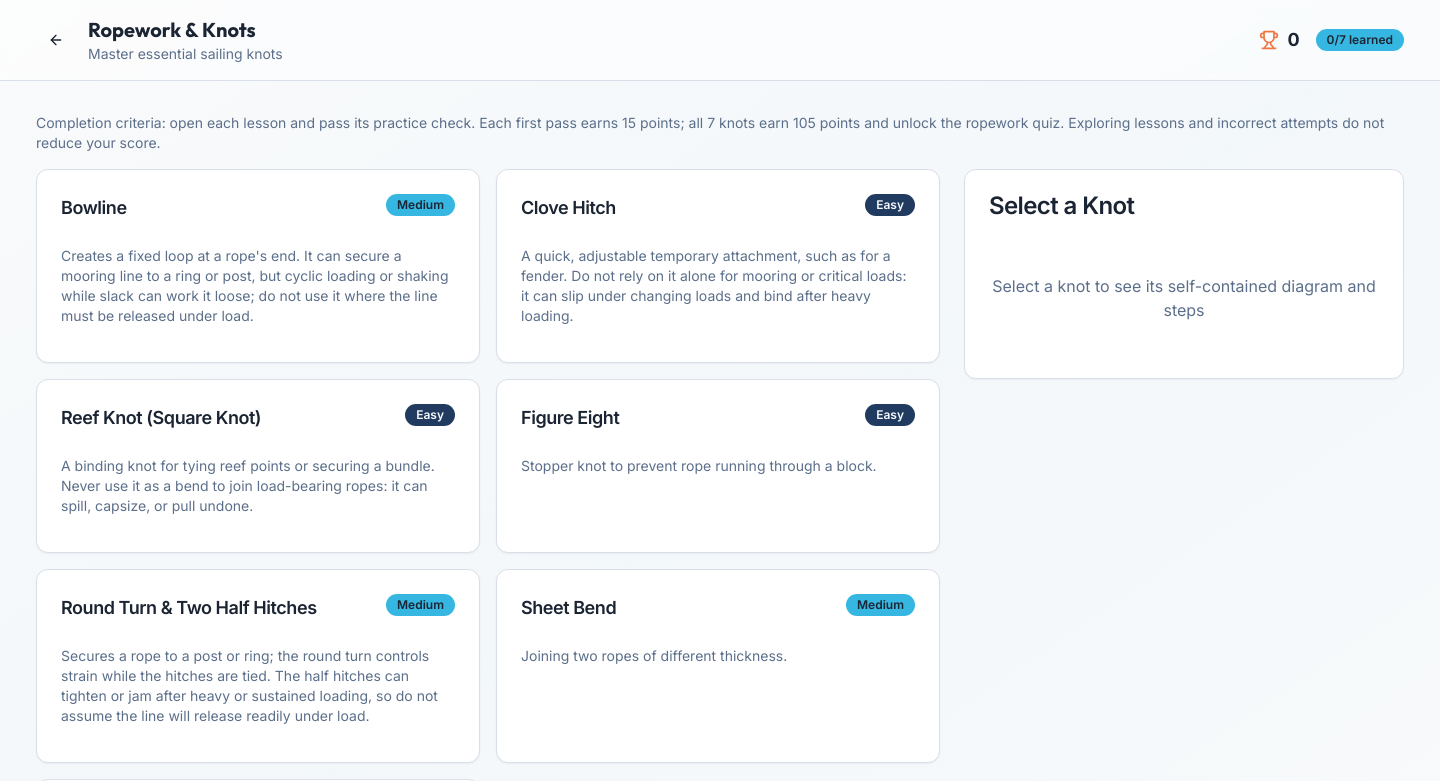
Test: RopeworkTheory durable progress › shows a failed save and retries the same snapshot
Click the button named "Bowline" in the row of "Bowline" at (258, 266), box [37,170,479,362]
(page scrolled)
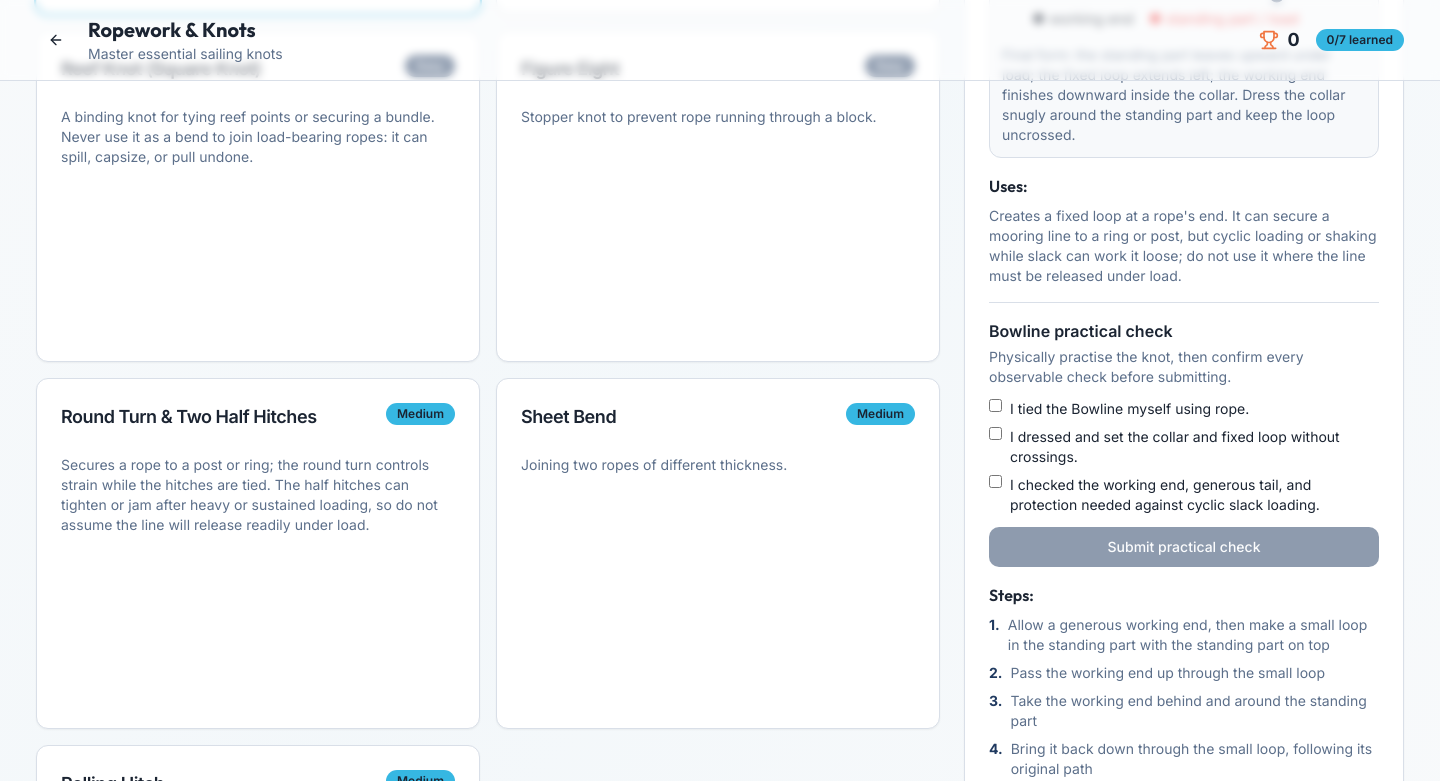
Click the checkbox labelled "I tied the Bowline myself using rope." at (996, 406), box [989,399,1002,412]
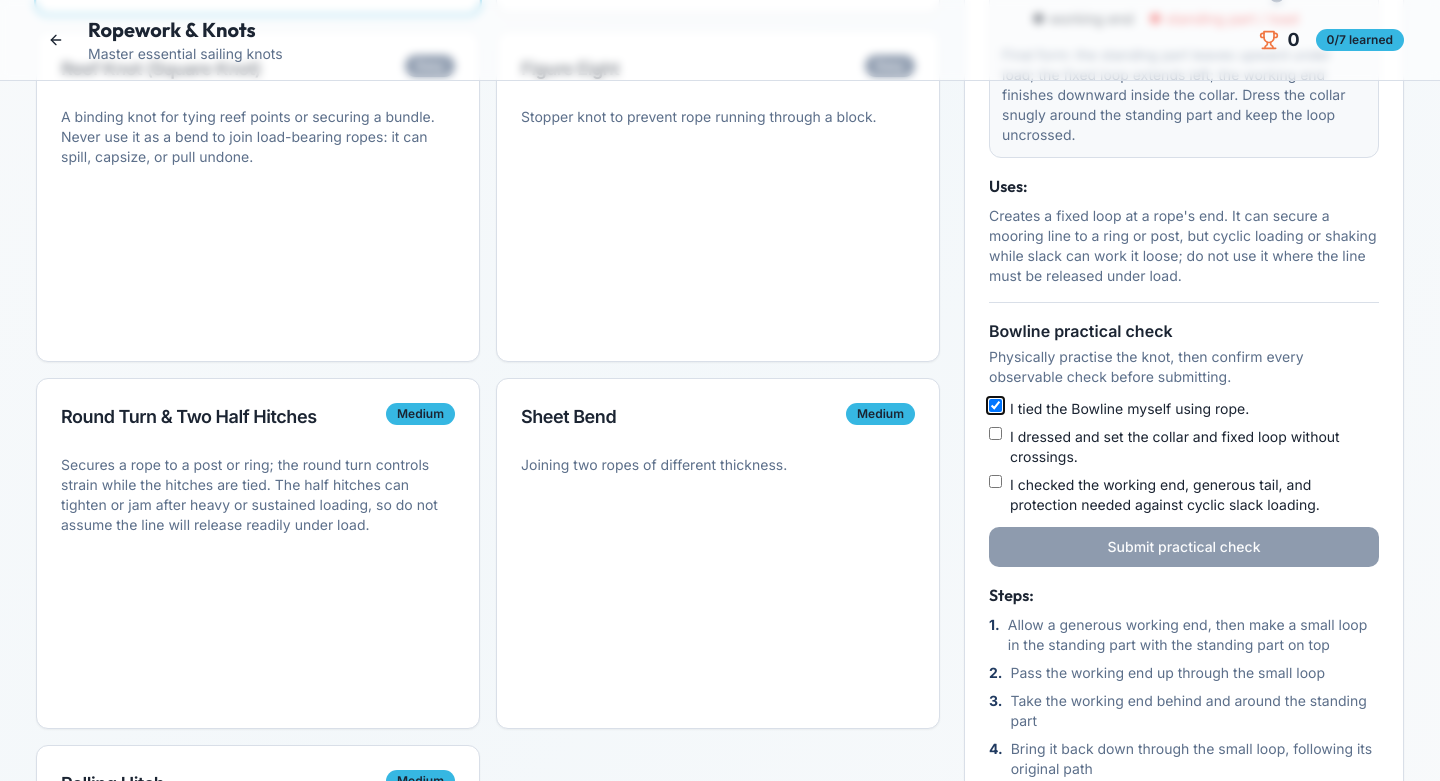
Click the checkbox labelled "I dressed and set the collar and fixed loop without crossings." at (996, 434), box [989,427,1002,440]
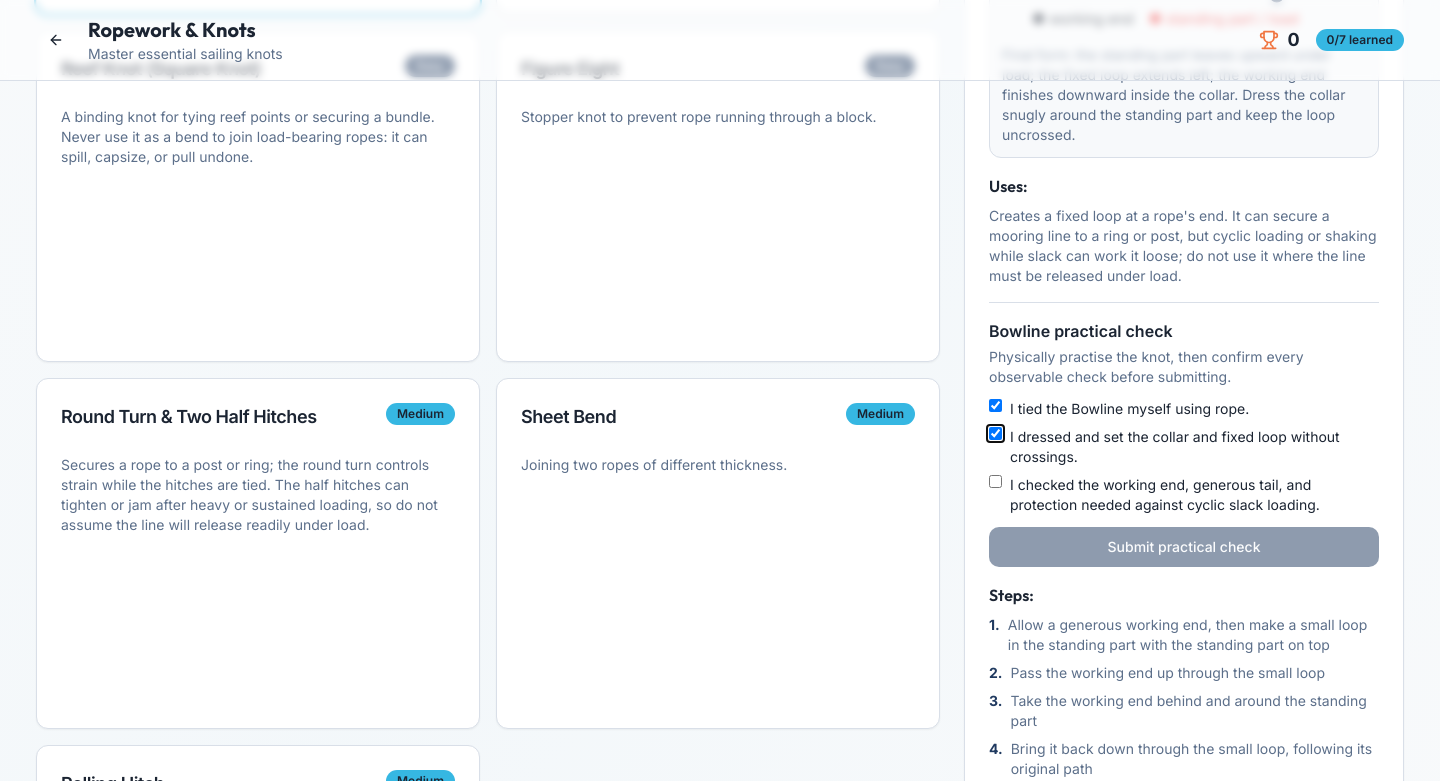
Click the checkbox named "I checked the working end, generous tail, and protection needed against cyclic slack loading." at (996, 482), box [989,475,1002,488]
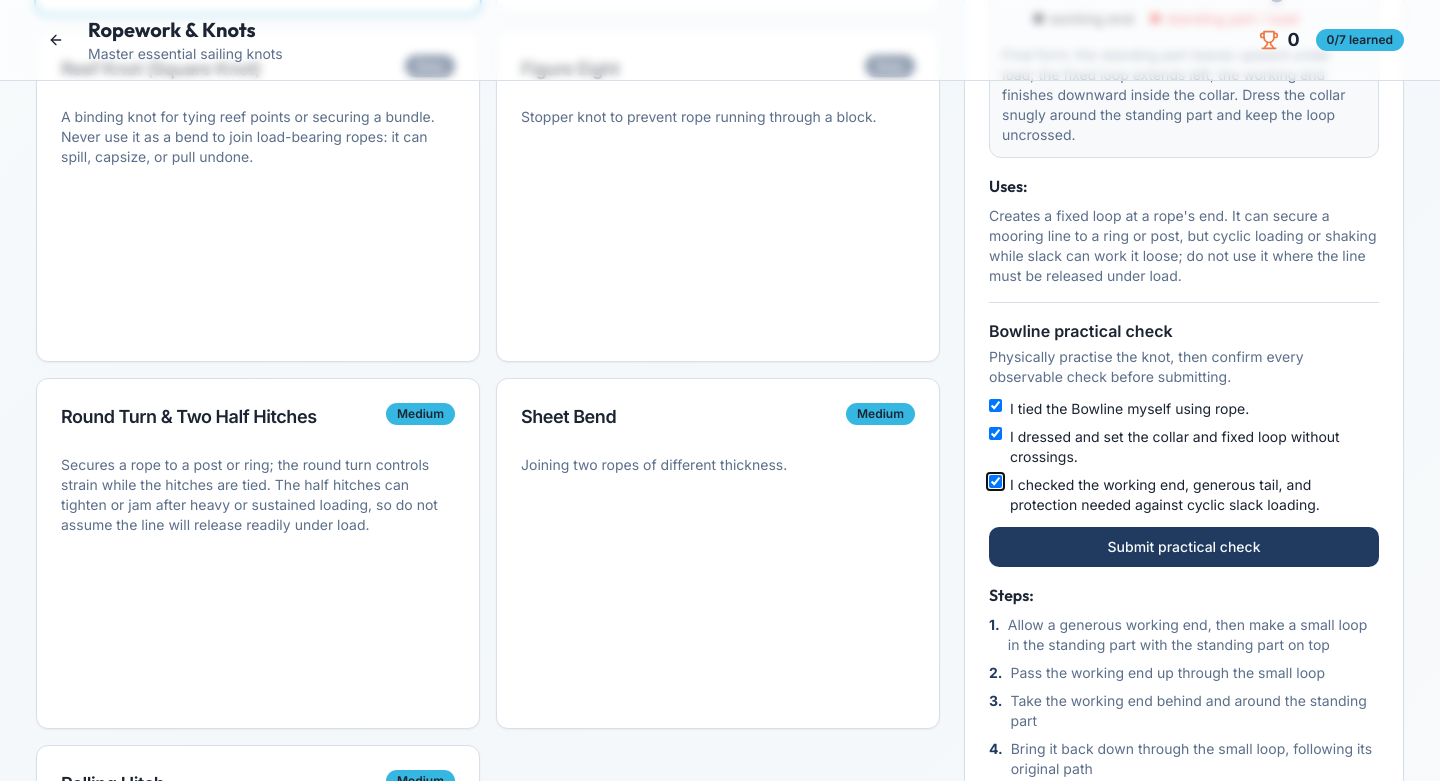
Click the button "Submit practical check" at (1184, 547), box [989,527,1379,567]
(page scrolled)
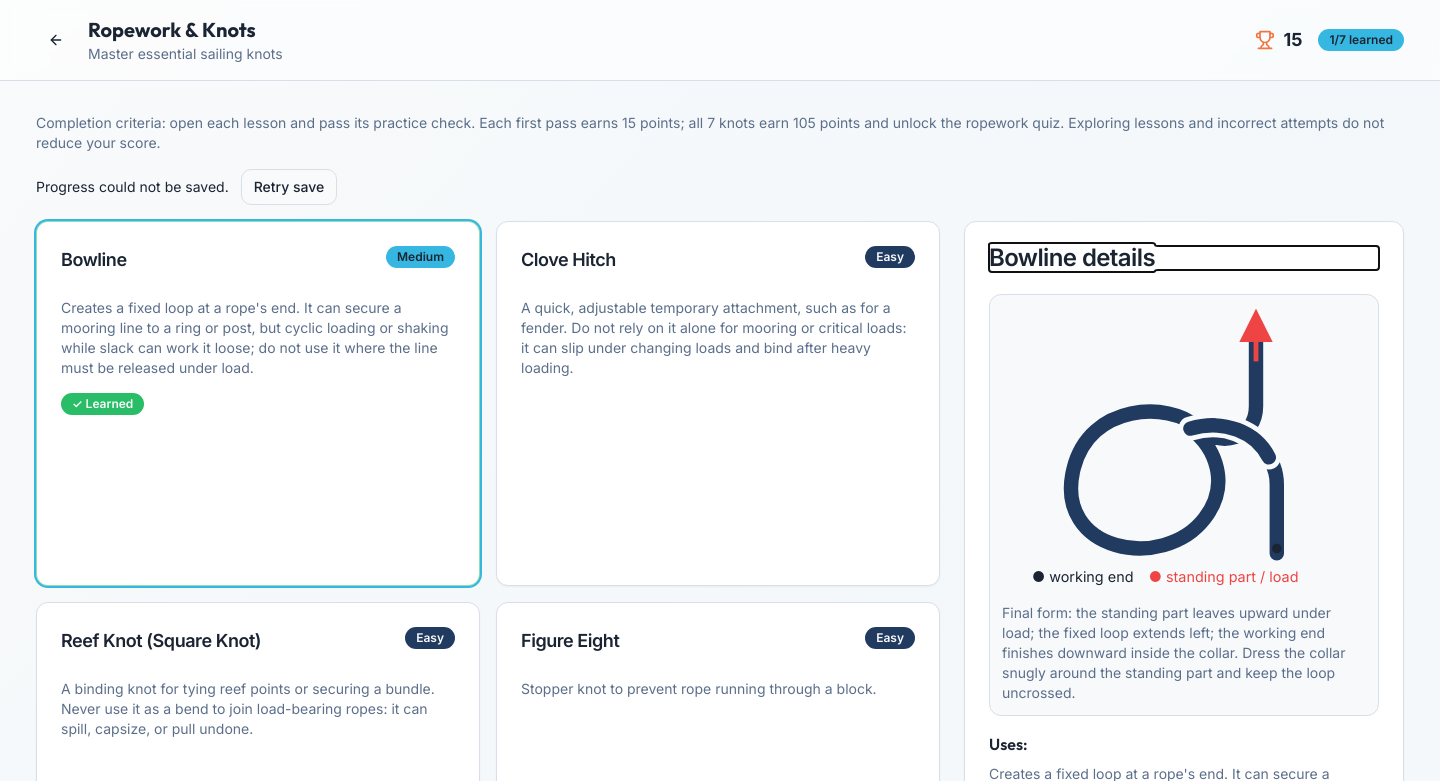
Click the button "Retry save" at (289, 187), box [241,169,337,205]
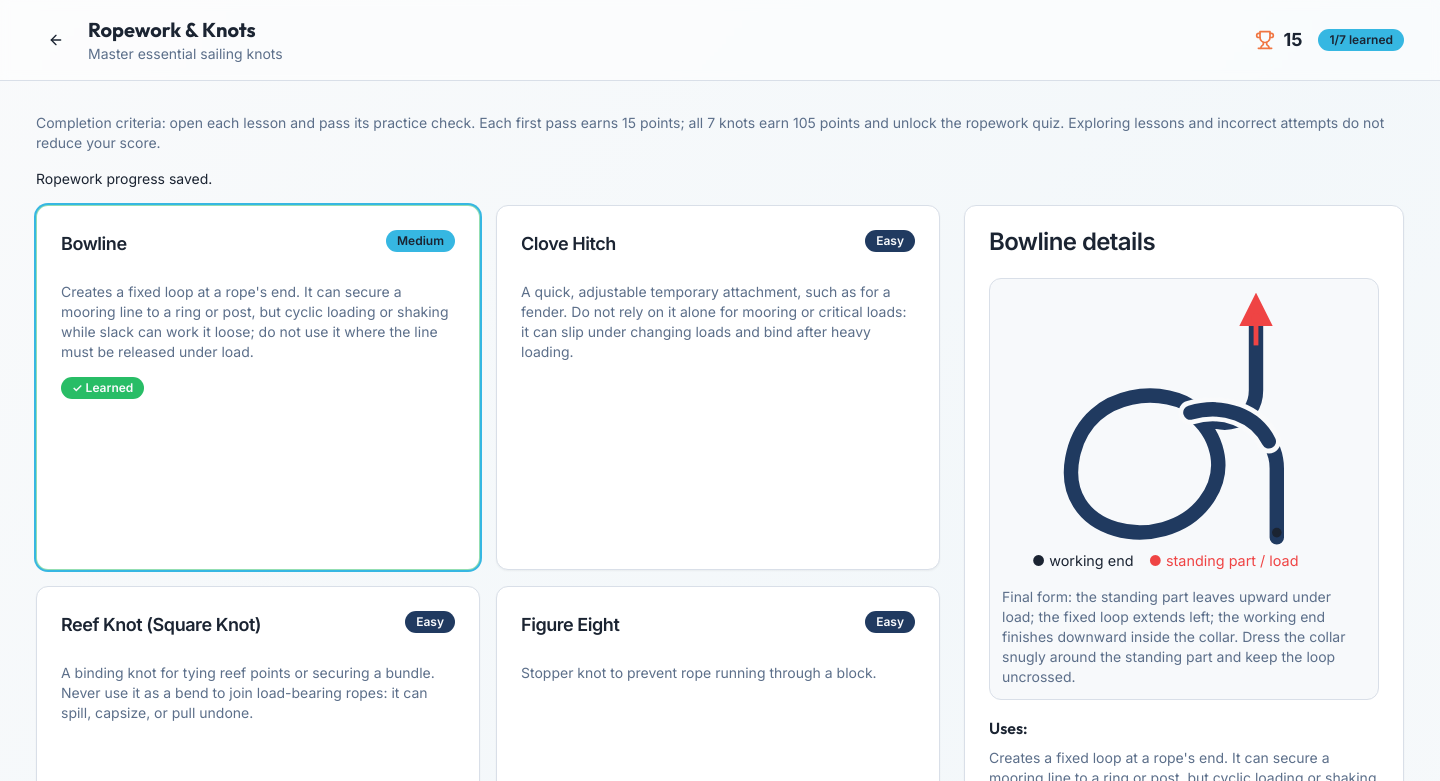
Expected: the text "Ropework progress saved." is shown, [36,170,212,187]
